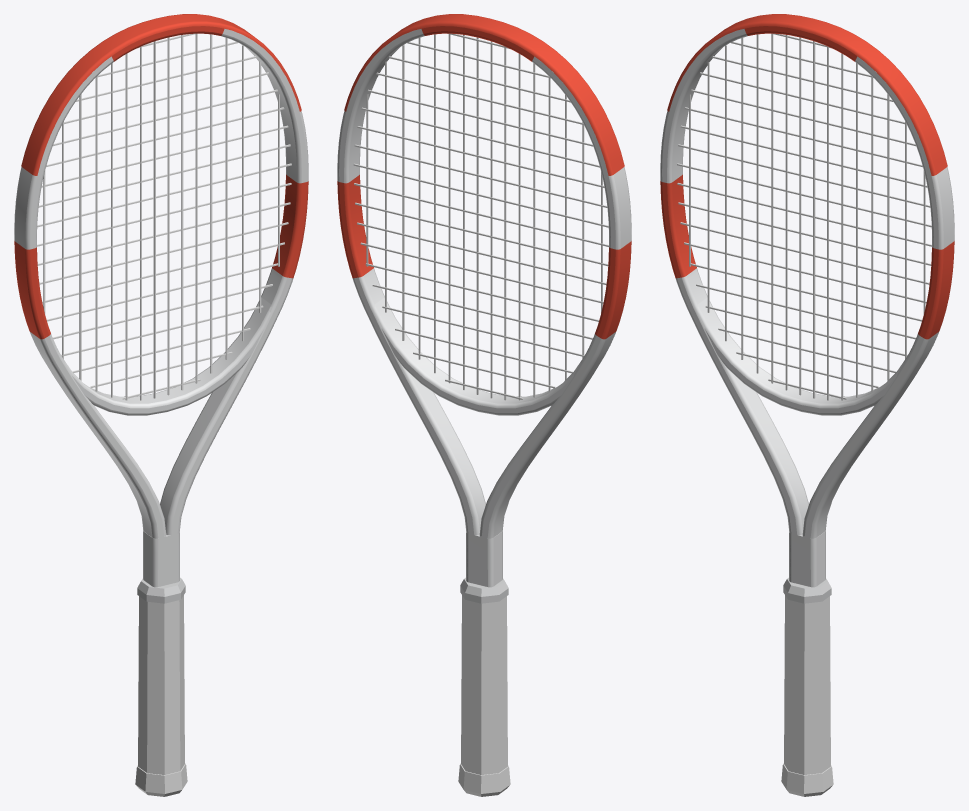
File: babolat-pure-strike-team-2019.glb
3 views of the same model, side by side, from view 1: azimuth 30°, elevation 25°; view 2: azimuth 150°, elevation 25°; view 3: azimuth 330°, elevation 25° (orthographic).
Parts seen in each view (by area): view 1: frame, strings_mains, strings_crosses, grip, bumper, butt_cap, collar; view 2: frame, strings_mains, strings_crosses, grip, bumper, butt_cap, collar; view 3: frame, strings_mains, strings_crosses, grip, bumper, butt_cap, collar.
Boxes of the visible parts, box(x1,y1,x2,y2) form: frame: box(14, 26, 308, 587); strings_mains: box(43, 33, 279, 400); strings_crosses: box(37, 33, 291, 399); grip: box(138, 595, 184, 774); bumper: box(21, 14, 301, 175); butt_cap: box(135, 763, 187, 796); collar: box(137, 577, 185, 603); frame: box(337, 26, 631, 587); strings_mains: box(366, 34, 602, 400); strings_crosses: box(353, 33, 608, 399); grip: box(461, 595, 507, 774); bumper: box(344, 14, 624, 175); butt_cap: box(458, 763, 510, 796); collar: box(460, 577, 508, 603); frame: box(660, 26, 954, 587); strings_mains: box(689, 33, 925, 400); strings_crosses: box(677, 33, 931, 399); grip: box(784, 595, 830, 774); bumper: box(667, 14, 947, 175); butt_cap: box(781, 763, 833, 796); collar: box(783, 577, 831, 603).
Size of the model in its own units: 0.2658 by 0.6861 by 0.0396.
